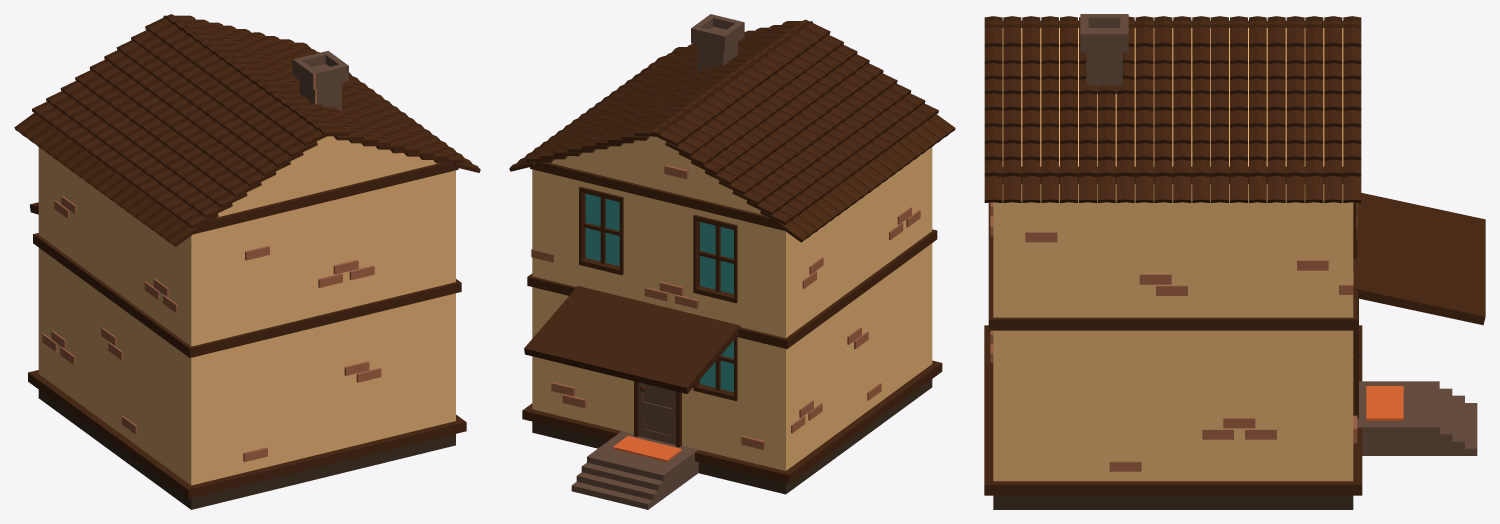
The model's file is casa01.fbx.
3 views of the same model, side by side, from view 1: azimuth 30°, elevation 25°; view 2: azimuth 150°, elevation 25°; view 3: azimuth 270°, elevation 25° (orthographic). The views are drawn at different scales.
Parts seen in each view (by area): view 1: Cube; view 2: Cube; view 3: Cube.
Boxes of the visible parts, <box> form: Cube: <box>14,14,480,509</box>; Cube: <box>509,14,955,509</box>; Cube: <box>984,14,1485,509</box>.
Bounding box in the file's own units: 232 × 267 × 279.
Materials: 1 (1 with a texture image).
